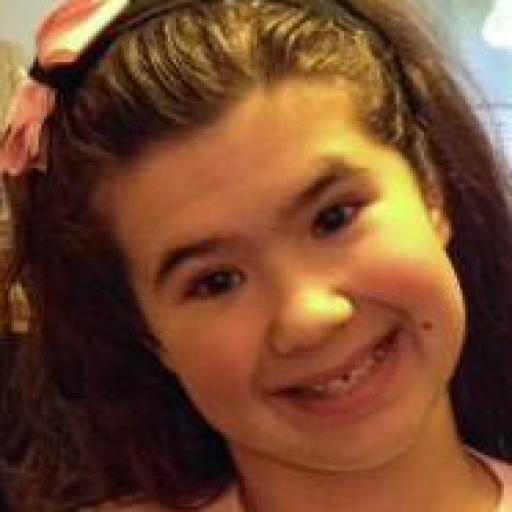Autism: (18, 10, 508, 496)
